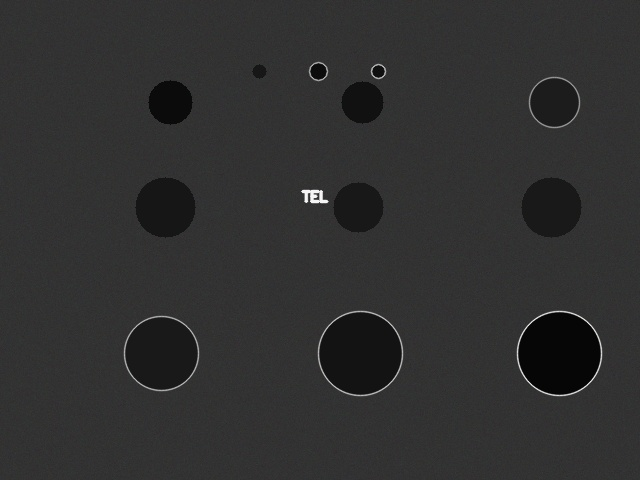hole: (318, 311, 402, 395), (517, 311, 601, 395), (124, 316, 198, 390), (135, 177, 195, 237), (521, 177, 581, 237), (529, 77, 579, 127), (333, 182, 383, 232), (148, 80, 192, 124), (341, 81, 383, 123), (309, 62, 327, 80), (252, 64, 266, 78), (371, 64, 385, 78)
